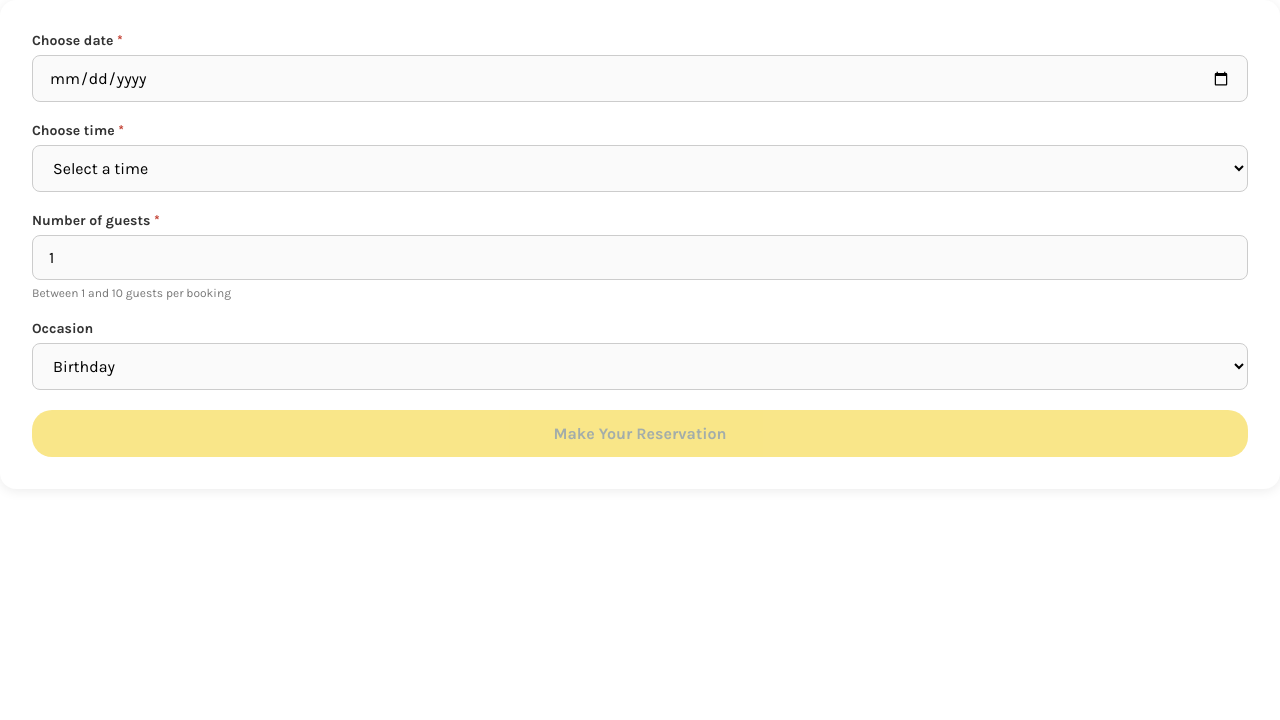
Test: shows error when date is not selected
What coordinates should you click on to do the following:
click the button named "on click"
I would click on:
 (640, 434)
Its box is [32, 410, 1248, 457].
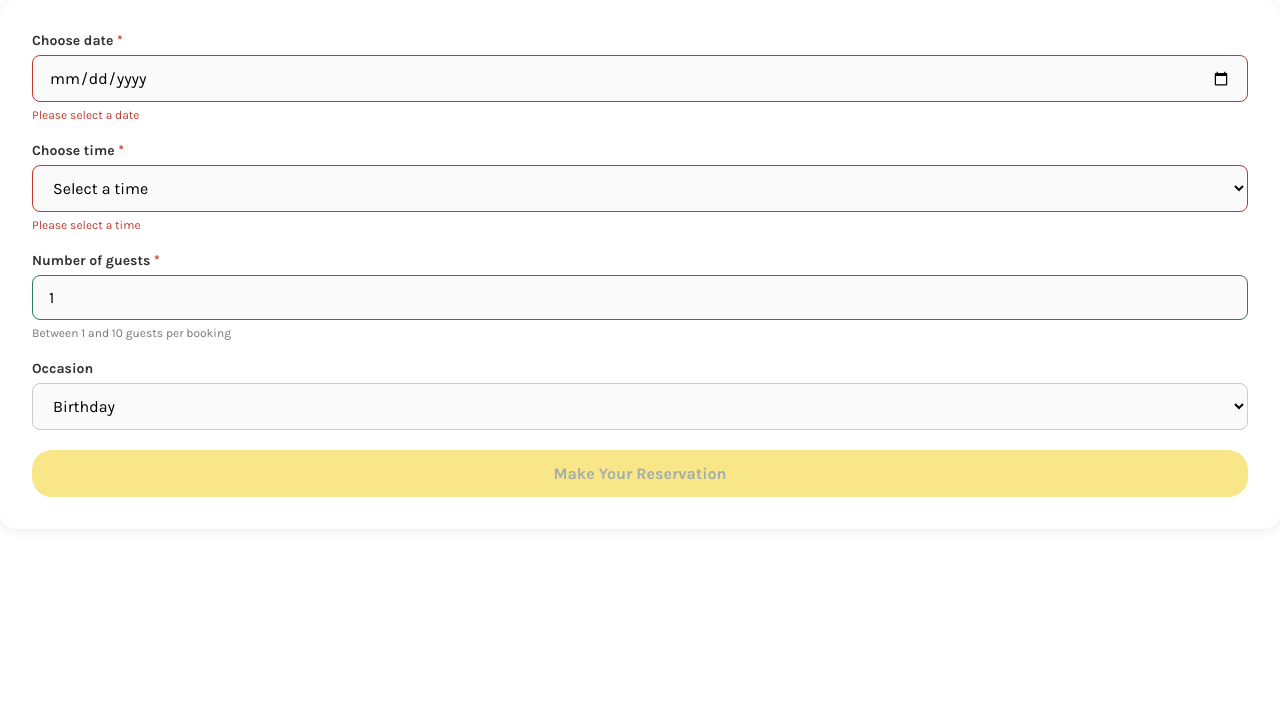
Now the text "Please select a date" is shown, box [32, 108, 140, 122]
